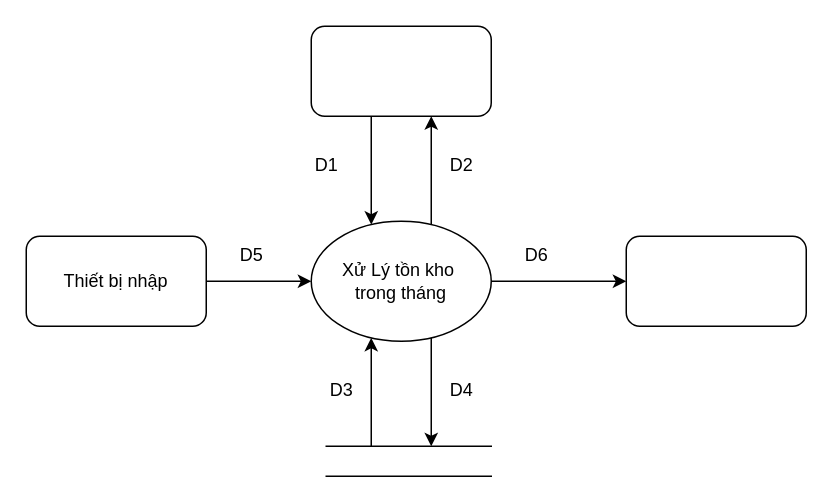
The diagram is 833 pixels wide and 503 high, and some of its shapes have lost their labels. The shapes that lost their labels are listed below. From the top down, each one's centre as x and y in pixels, then its label:
At point 400,70: "Quản Lý kho".
At point 715,280: "Thiết bị xuất".
